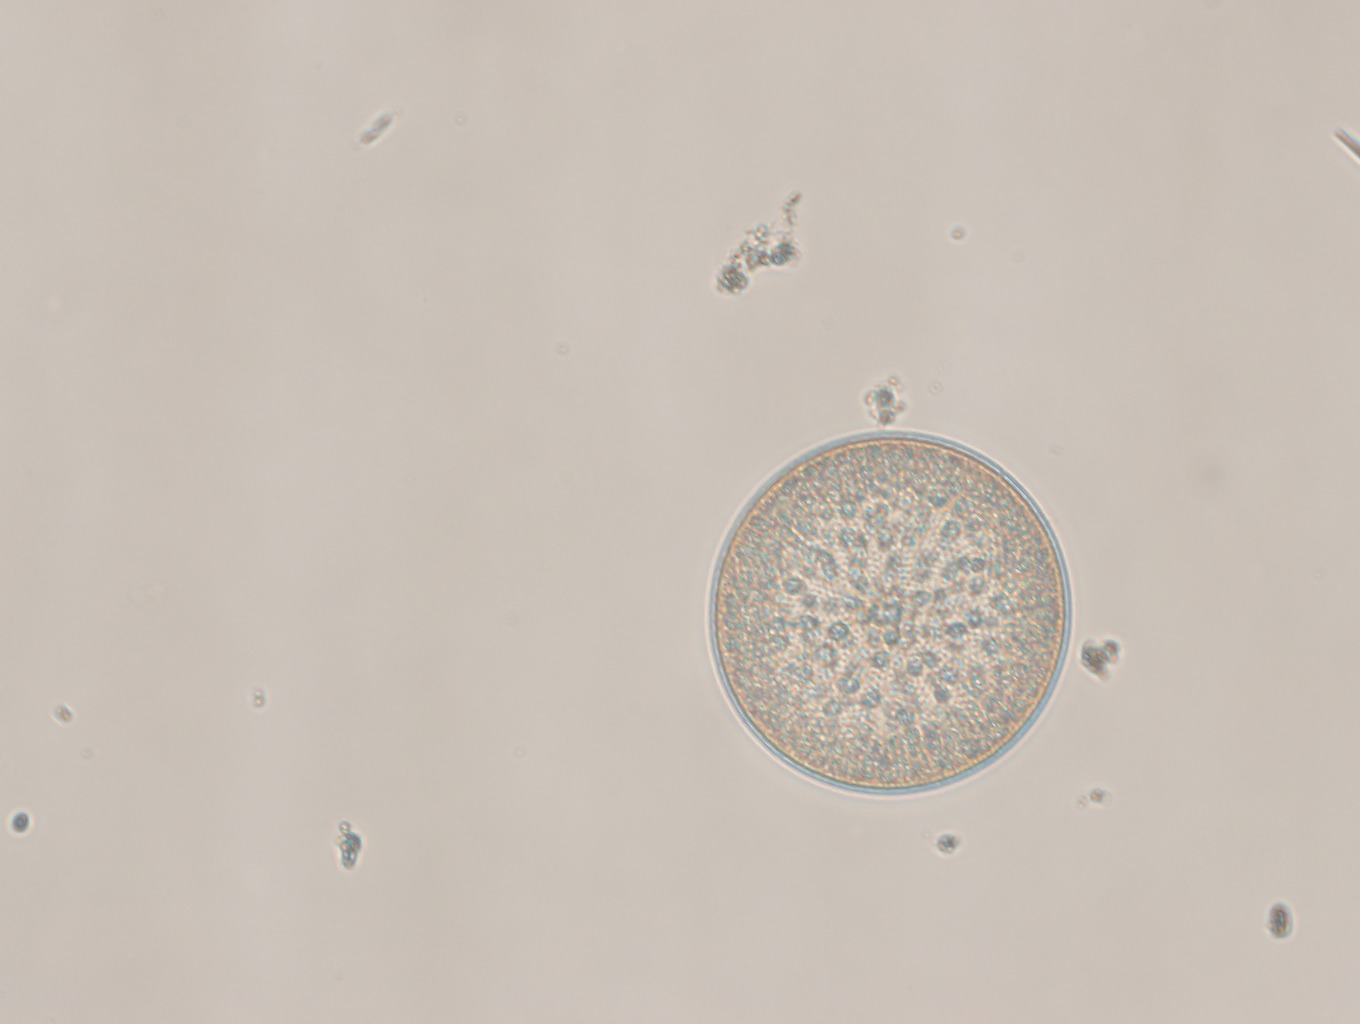coscinodiscus: (707, 427, 1072, 797)
